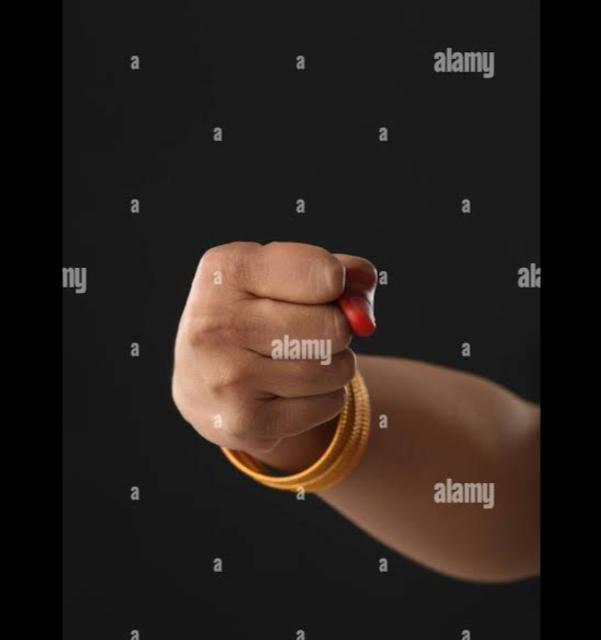mushti: (174, 244, 374, 492)
